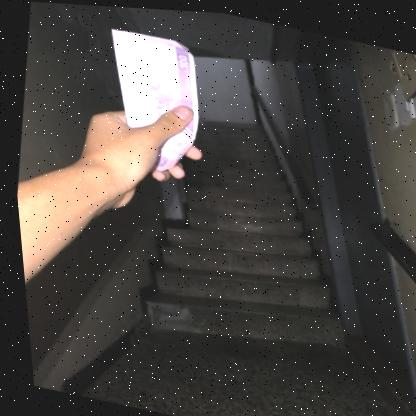one_hundred-back-vef: (88, 23, 212, 179)
